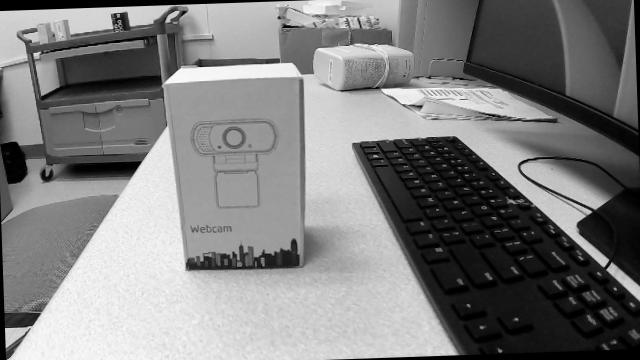CameraBox1: (164, 63, 305, 271)
